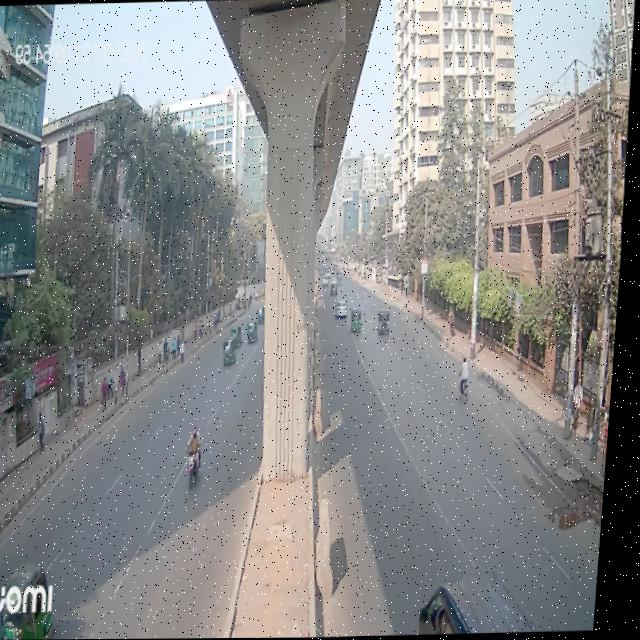cng: (1, 546, 60, 640), (378, 304, 397, 345), (225, 331, 244, 372), (350, 307, 372, 340), (248, 317, 266, 350), (234, 323, 248, 351)
